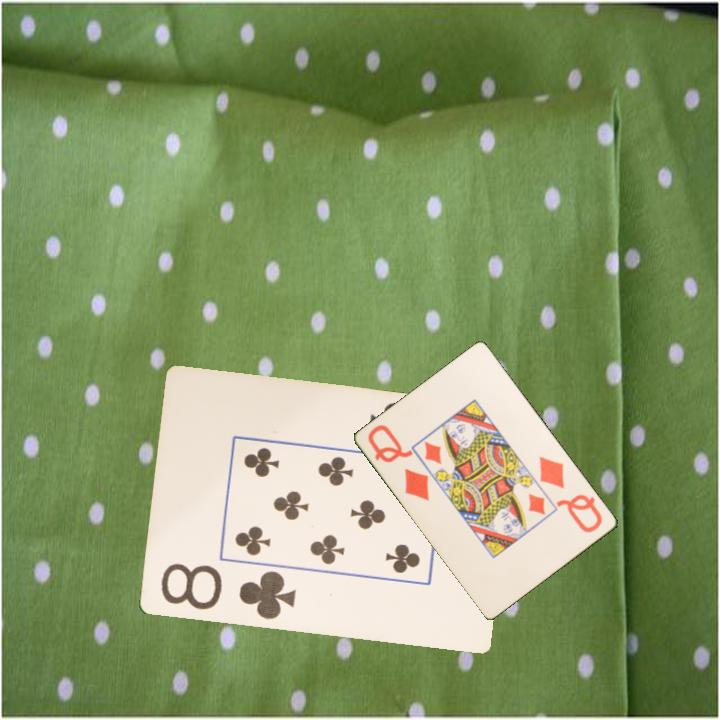8c: (157, 560, 298, 623)
Qd: (536, 453, 606, 536), (364, 421, 433, 504)
